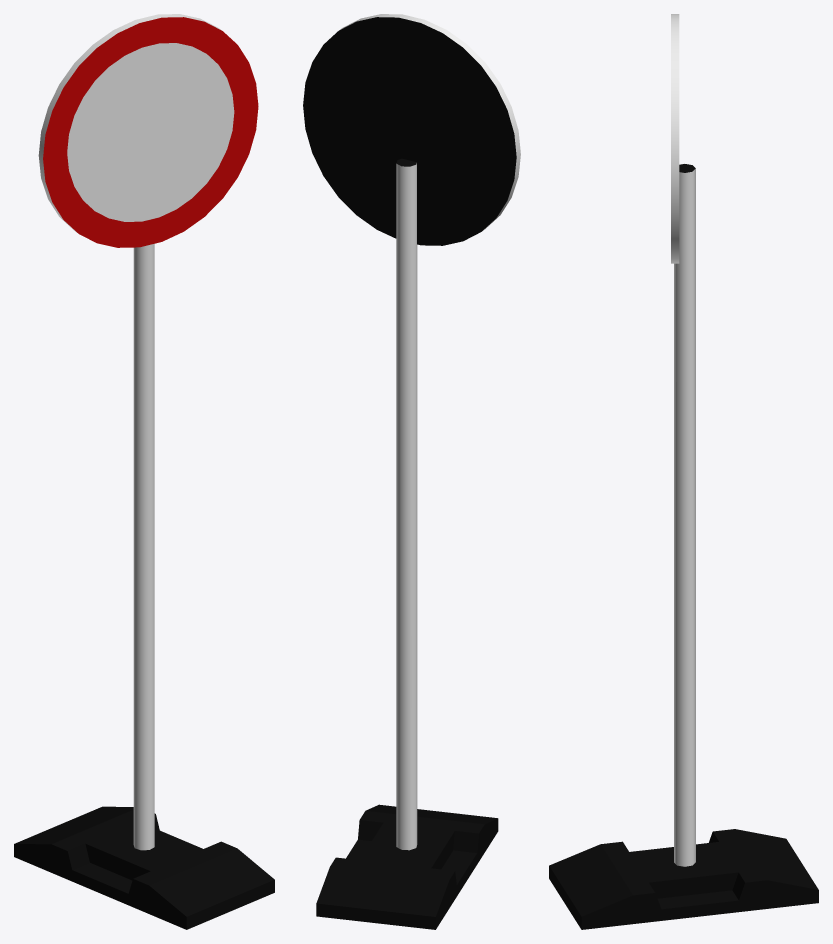
Rendered from NopeSign.fbx.
3 renders of one model, left to right at view 1: azimuth 30°, elevation 25°; view 2: azimuth 150°, elevation 25°; view 3: azimuth 270°, elevation 25°, orthographic.
Visible parts, largest first — view 1: NopeSign, SignStand03; view 2: NopeSign, SignStand03; view 3: SignStand03, NopeSign.
Part boxes in pixels (x1,y1,x2,y2): NopeSign: [38, 14, 258, 850]; SignStand03: [14, 806, 274, 929]; NopeSign: [303, 14, 520, 850]; SignStand03: [316, 804, 498, 929]; SignStand03: [549, 829, 818, 929]; NopeSign: [671, 14, 695, 866].
Size of the model in its own units: 35.23 by 134 by 37.94.
